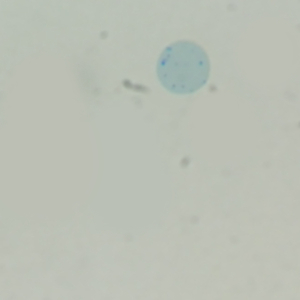punctate reticulocyte: (155, 39, 211, 95)
